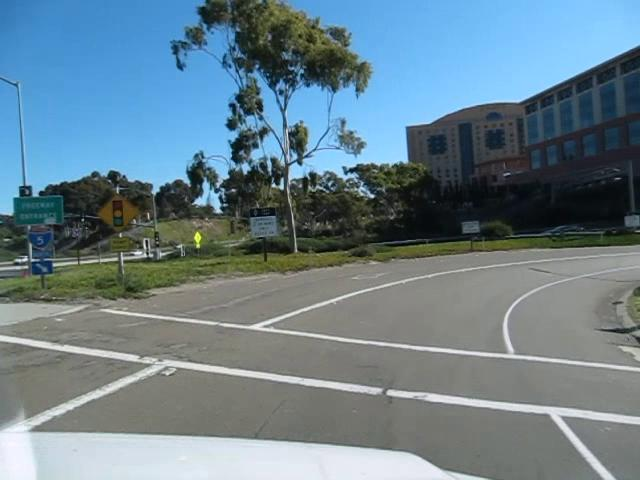signalAhead: (95, 191, 139, 235)
